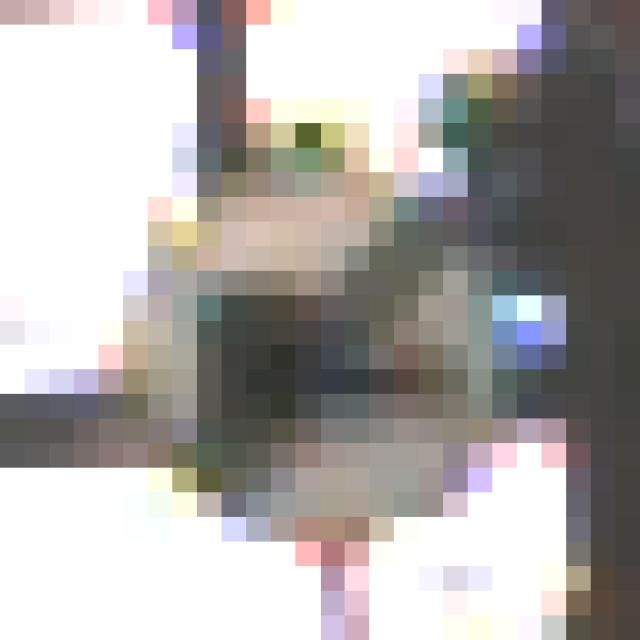Overtaking by trucks is prohibited: (49, 74, 566, 591)
